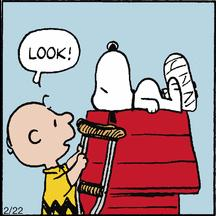charlie: (3, 92, 88, 216)
snoopy: (89, 39, 197, 126)
